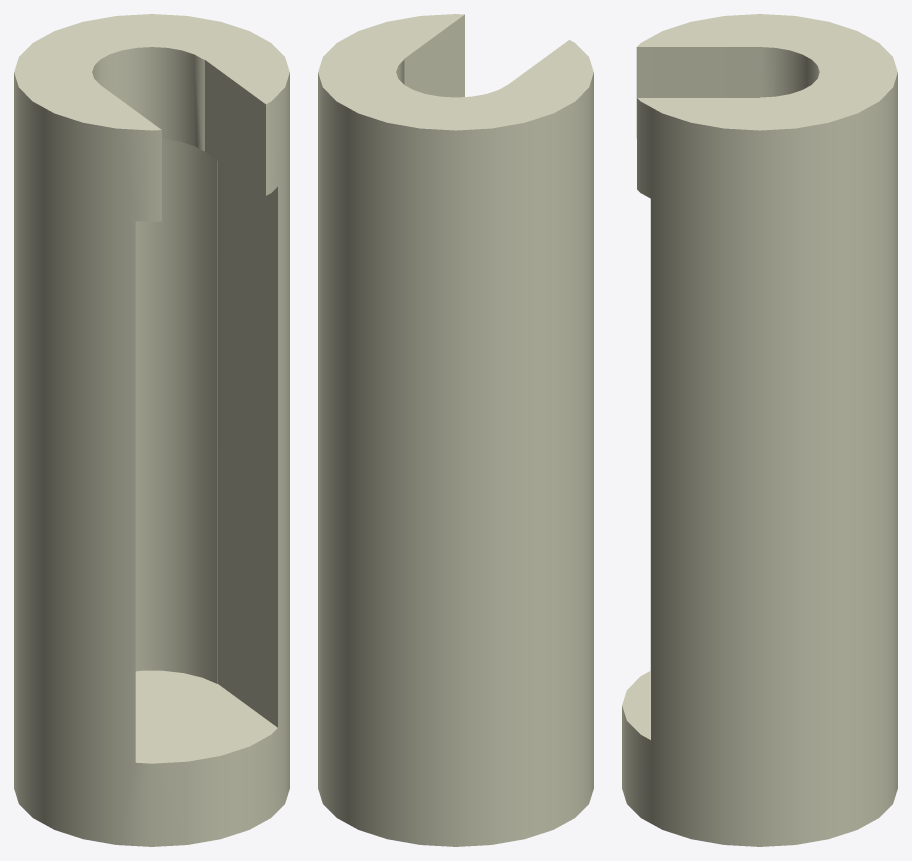
Rendered from 5cc_syringe_hammer_casing.dae.
3 renders of one model, left to right at view 1: azimuth 30°, elevation 25°; view 2: azimuth 150°, elevation 25°; view 3: azimuth 270°, elevation 25°, orthographic.
Visible parts, largest first — view 1: SketchUp; view 2: SketchUp; view 3: SketchUp.
Boxes of the visible parts, x1,y1,x2,y2 form: SketchUp: [14, 14, 289, 846]; SketchUp: [318, 14, 593, 846]; SketchUp: [622, 14, 897, 846].
Bounding box in the file's own units: 1.18 × 1.18 × 3.39.
